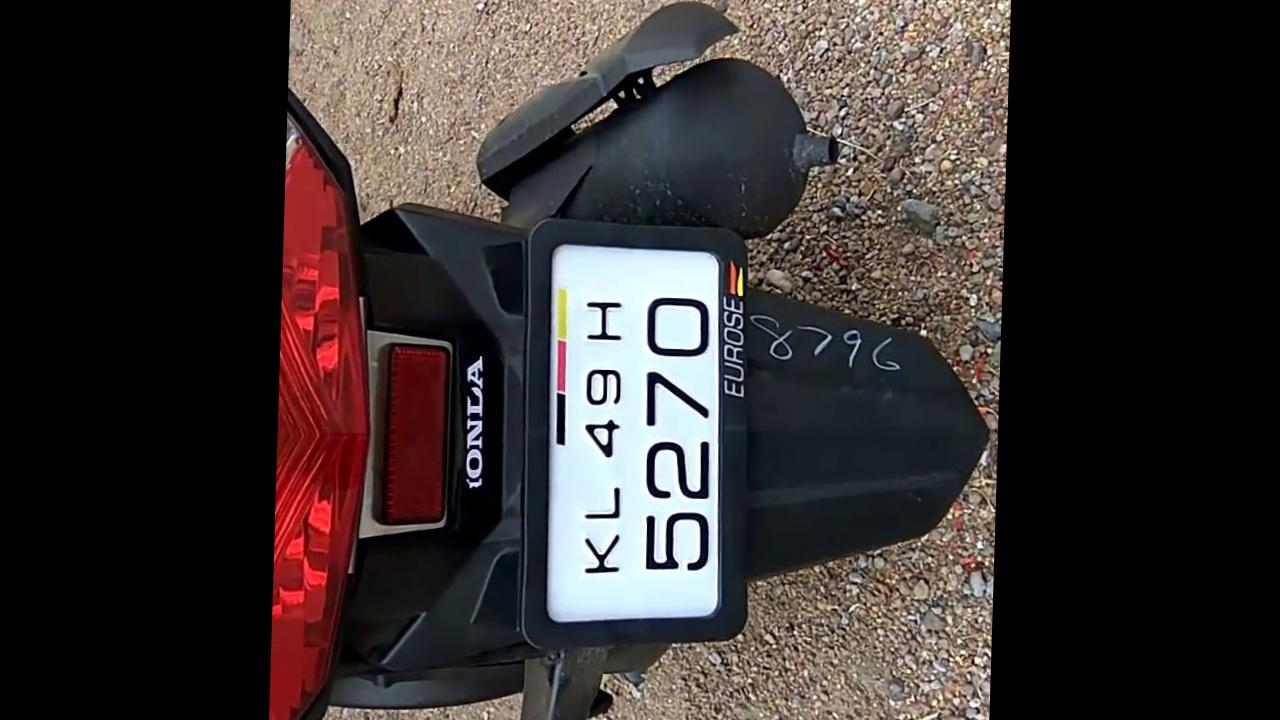plate: (516, 220, 762, 638)
